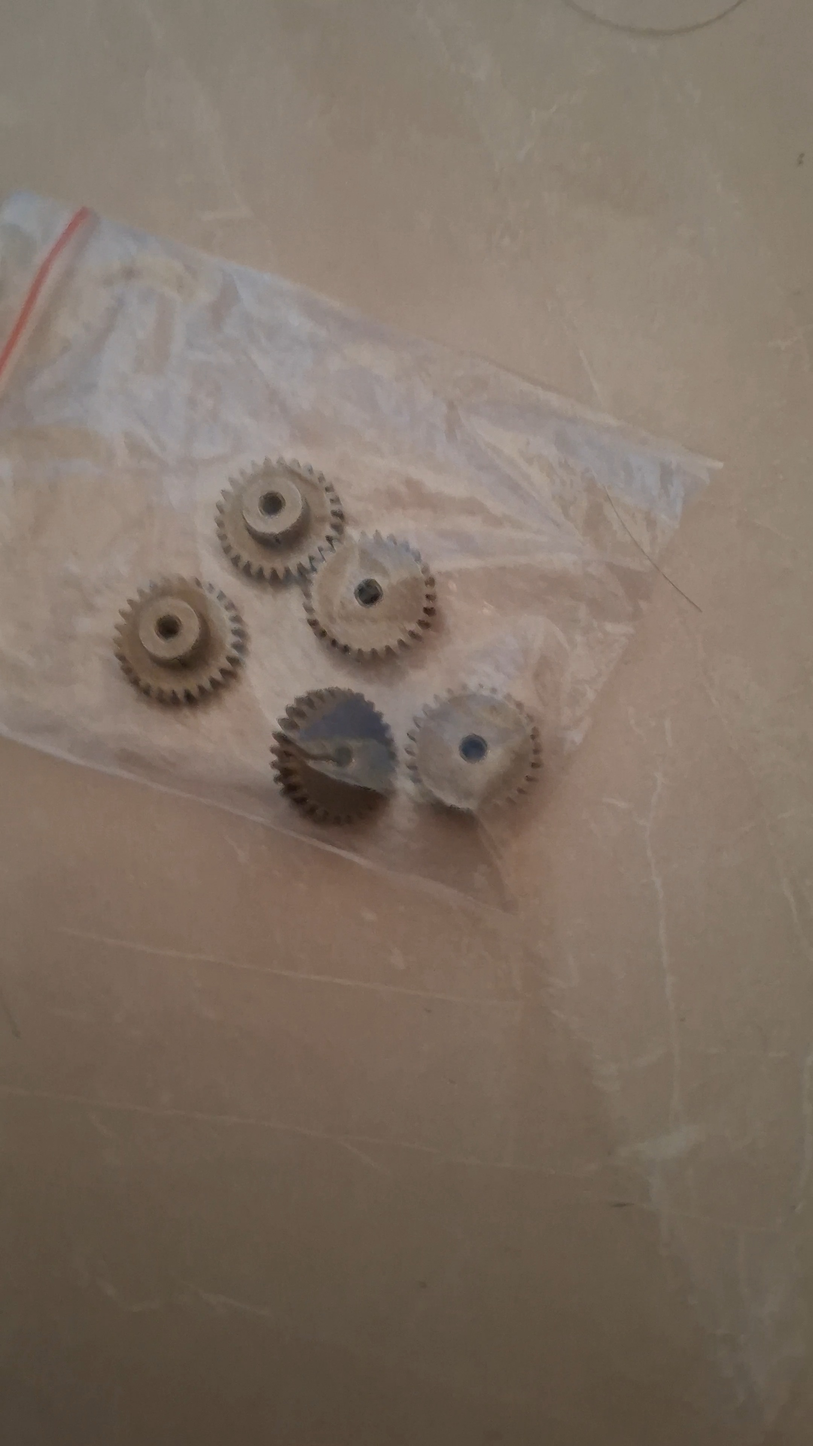spur gear: (272, 688, 396, 823), (406, 689, 541, 813), (305, 532, 435, 660), (114, 577, 247, 702), (216, 459, 343, 581)
